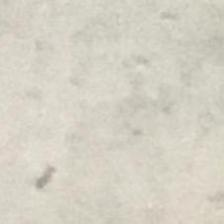Non_Crack: (20, 33, 204, 191)
